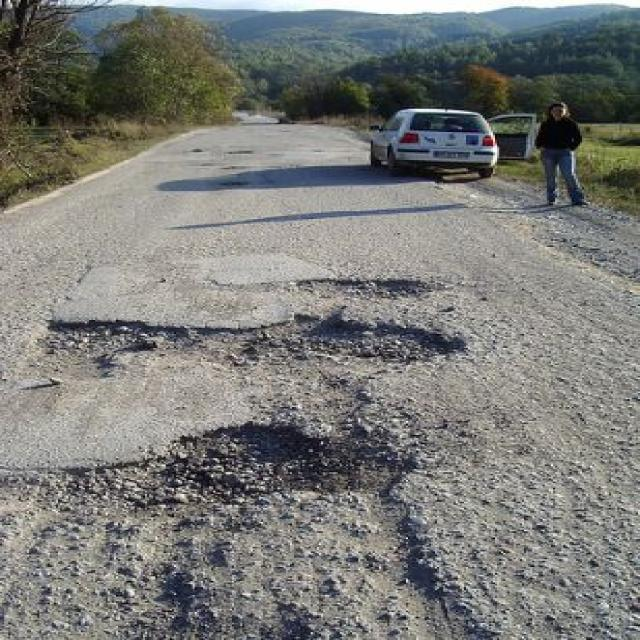pothole: (35, 404, 433, 528), (39, 307, 460, 383)
